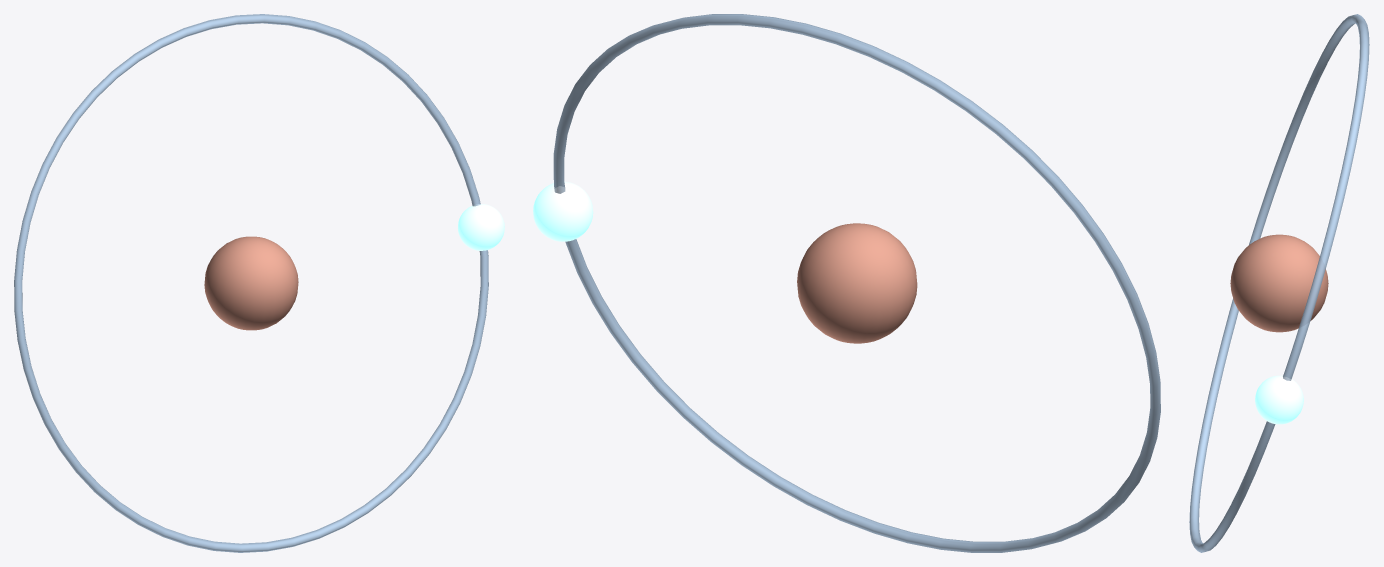
File: electron_orbit.glb
3 views of the same model, side by side, from view 1: azimuth 30°, elevation 25°; view 2: azimuth 150°, elevation 25°; view 3: azimuth 270°, elevation 25° (orthographic). The views are drawn at different scales.
Parts seen in each view (by area): view 1: Sphere; view 2: Sphere; view 3: Sphere.
Boxes of the visible parts, box(x1,y1,x2,y2) form: Sphere: box(14, 14, 504, 552); Sphere: box(533, 14, 1160, 552); Sphere: box(1189, 14, 1369, 552).
Size of the model in its own units: 0.2 by 0.1838 by 0.062.
